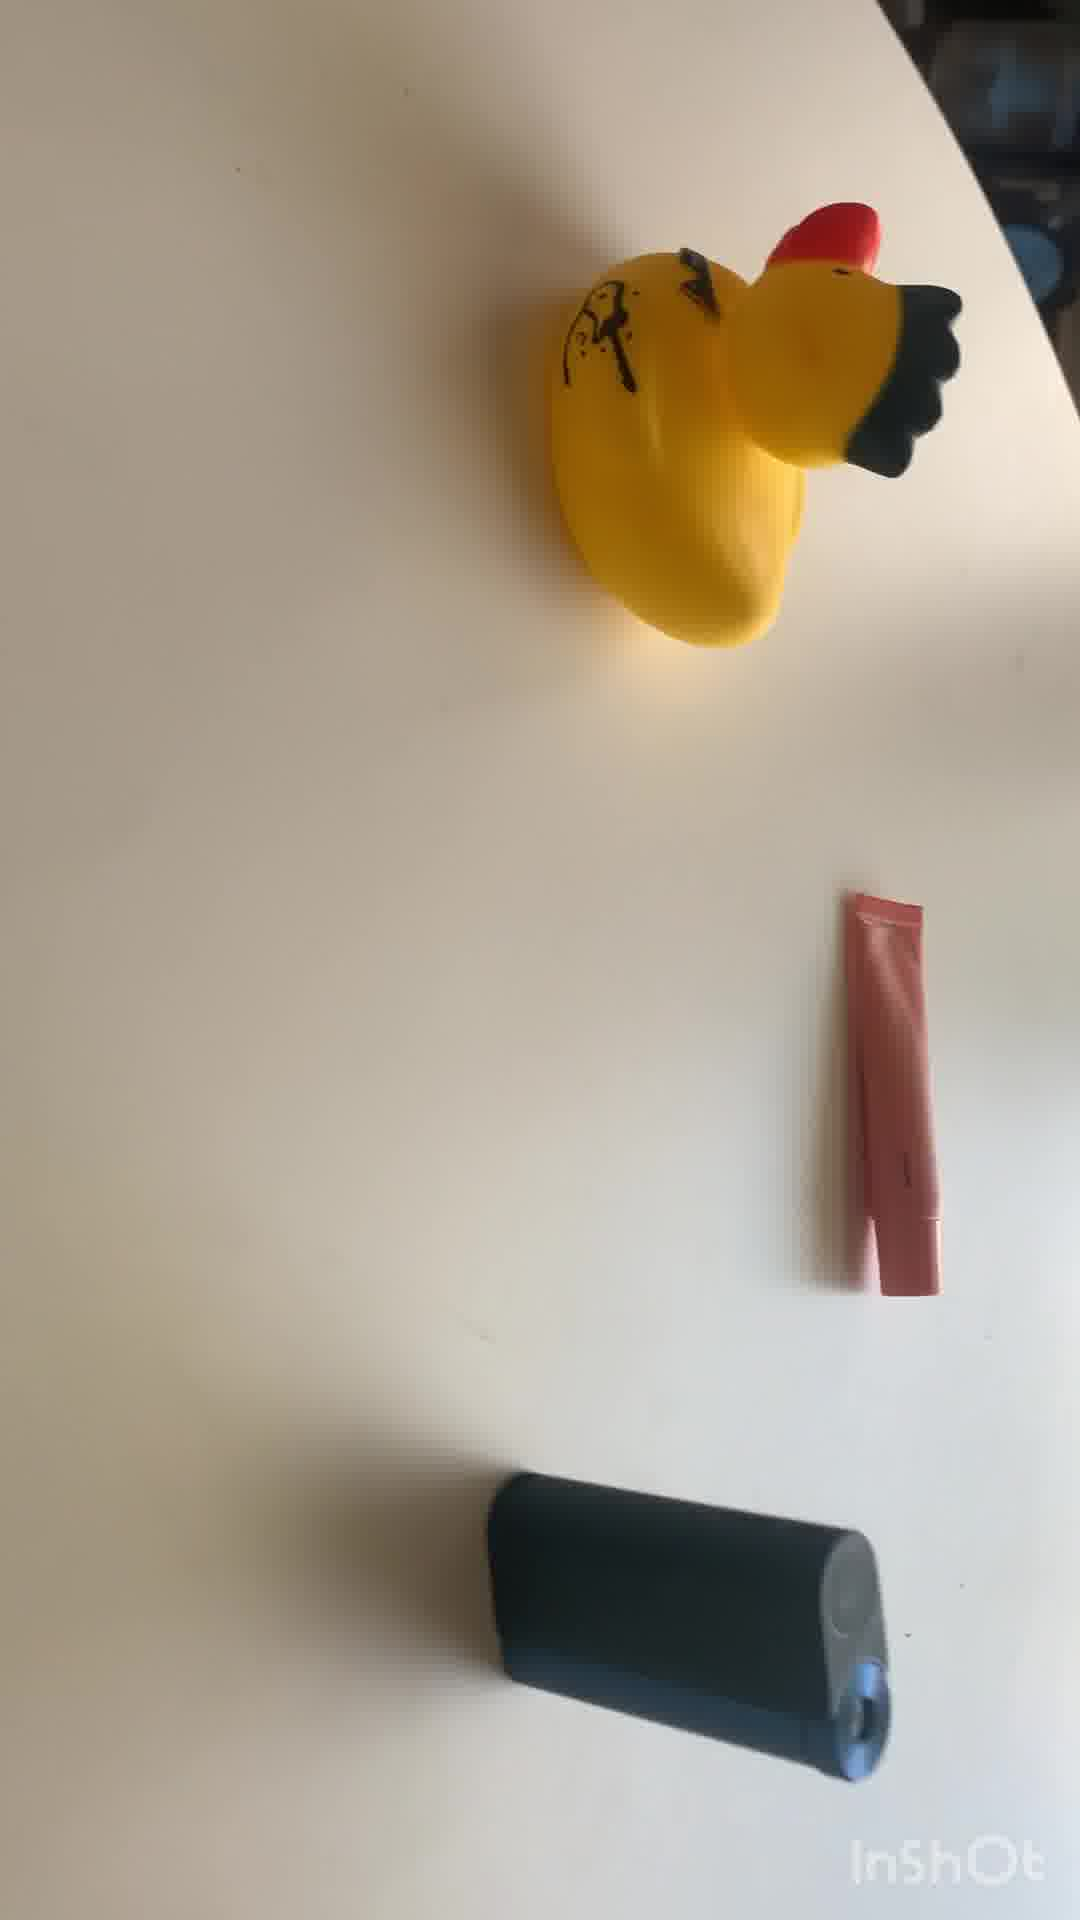duck: (549, 200, 964, 665)
glo: (485, 1477, 898, 1782)
lip balm: (831, 885, 956, 1300)
